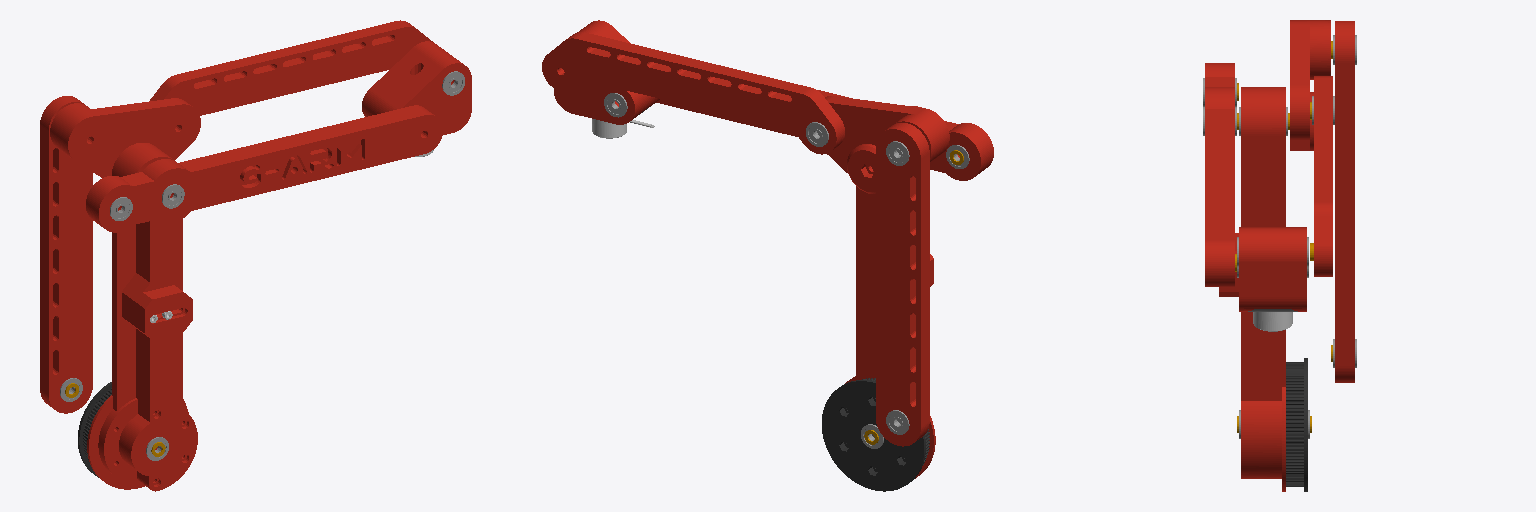
robot.urdf — g_arm:
<?xml version="1.0" ?>
<!-- =================================================================================== -->
<!-- |    eThis document was autogenerated by xacro from robot_electromagnet.urdf.xacro | -->
<!-- |    EDITING THIS FILE BY HAND IS NOT RECOMMENDED                                 | -->
<!-- =================================================================================== -->
<robot name="g_arm">
  <!-- Definition of the base link -->
  <link name="base_link">
    <visual>
      <origin rpy="0.0 0.0 0.0" xyz="0.0 0.0 0.0"/>
      <geometry>
        <mesh filename="package://g_arm_description/meshes/base.dae"/>
      </geometry>
    </visual>
    <collision>
      <origin rpy="0.0 0.0 0.0" xyz="0.0 0.0 0.035"/>
      <geometry>
        <cylinder length="0.07" radius="0.07"/>
      </geometry>
      <material name="blue">
        <color rgba="0.0 0.0 1.0 1.0"/>
      </material>
    </collision>
  </link>
  <!-- Definition of the motors base link -->
  <link name="motors_link">
    <visual>
      <origin rpy="0.0 0.0 0" xyz="0.0 0.0 0.0"/>
      <geometry>
        <mesh filename="package://g_arm_description/meshes/motors.dae"/>
      </geometry>
    </visual>
    <collision>
      <origin rpy="0.0 0.0 0.0" xyz="0 0 0"/>
      <geometry>
        <mesh filename="package://g_arm_description/meshes/motors.stl" scale="0.001 0.001 0.001"/>
      </geometry>
      <material name="blue">
        <color rgba="0.0 0.0 1.0 1.0"/>
      </material>
    </collision>
  </link>
  <!-- Definition of the arm link 1 -->
  <link name="link1">
    <visual>
      <origin rpy="0.0 0.0 0.0" xyz="0.0 0.0 0.0"/>
      <geometry>
        <mesh filename="package://g_arm_description/meshes/link1.dae"/>
      </geometry>
    </visual>
    <collision>
      <origin rpy="0.0 0.0 0.0" xyz="0.0 0.0 0.0"/>
      <geometry>
        <mesh filename="package://g_arm_description/meshes/link1.stl" scale="0.001 0.001 0.001"/>
      </geometry>
      <material name="blue">
        <color rgba="0.0 0.0 1.0 1.0"/>
      </material>
    </collision>
  </link>
  <link name="link_j3_lever">
    <visual>
      <origin rpy="0.0 0.0 0.0" xyz="0.0 0.0 0.0"/>
      <geometry>
        <mesh filename="package://g_arm_description/meshes/link_j3_lever.dae"/>
      </geometry>
    </visual>
    <collision>
      <origin rpy="0.0 0.0 0.0" xyz="0.0 0.0 0.0"/>
      <geometry>
        <mesh filename="package://g_arm_description/meshes/link_j3_lever.stl" scale="0.001 0.001 0.001"/>
      </geometry>
      <material name="blue">
        <color rgba="0.0 0.0 1.0 1.0"/>
      </material>
    </collision>
  </link>
  <link name="link1_to_link2_intermediate">

  </link>
  <!-- Definition of the arm link 2 -->
  <link name="link2">
    <visual>
      <origin rpy="0.0 0.0 0.0" xyz="0.0 0.0 0.0"/>
      <geometry>
        <mesh filename="package://g_arm_description/meshes/link2.dae"/>
      </geometry>
    </visual>
    <collision>
      <origin rpy="0.0 0.0 0.0" xyz="0.0 0.0 0.0"/>
      <geometry>
        <mesh filename="package://g_arm_description/meshes/link2.stl" scale="0.001 0.001 0.001"/>
      </geometry>
      <material name="blue">
        <color rgba="0.0 0.0 1.0 1.0"/>
      </material>
    </collision>
  </link>
  <!-- Definition of the arm end effector -->
  <link name="end_effector">
    <visual>
      <origin rpy="0.0 0.0 0.0" xyz="0.0 0.0 0.0"/>
      <geometry>
        <mesh filename="package://g_arm_description/meshes/end.dae"/>
      </geometry>
    </visual>
    <collision>
      <origin rpy="0.0 0.0 0.0" xyz="0.0 0.0 0.0"/>
      <geometry>
        <mesh filename="package://g_arm_description/meshes/end.stl" scale="0.001 0.001 0.001"/>
      </geometry>
      <material name="blue">
        <color rgba="0.0 0.0 1.0 1.0"/>
      </material>
    </collision>
  </link>
  <joint name="joint1" type="revolute">
    <origin rpy="0.0 0.0 0.0" xyz="0.0 0.0 0.076"/>
    <parent link="base_link"/>
    <child link="motors_link"/>
    <axis xyz="0.0 0.0 1.0"/>
    <limit effort="200.0" lower="-1.5707" upper="1.5707" velocity="200.0"/>
  </joint>
  <joint name="joint2" type="revolute">
    <origin rpy="1.5708 0 0" xyz="0.035 0.0331 0.055"/>
    <parent link="motors_link"/>
    <child link="link1"/>
    <axis xyz="0.0 0.0 1.0"/>
    <limit effort="200.0" lower="-1.5707" upper="1.5707" velocity="200.0"/>
  </joint>
  <joint name="joint_link1_link2_intermediate" type="revolute">
    <origin rpy="1.5708 0.0 0.0" xyz="0.035 -0.0341 0.055"/>
    <parent link="motors_link"/>
    <child link="link_j3_lever"/>
    <axis xyz="0.0 0.0 1.0"/>
    <limit effort="200.0" lower="-1.5707" upper="0.1" velocity="200.0"/>
    <mimic joint="joint3" multiplier="1.0"/>
  </joint>
  <joint name="joint3" type="revolute">
    <origin rpy="0.0 0.0 1.5708" xyz="0.0 0.17 0.0362"/>
    <parent link="link1"/>
    <child link="link1_to_link2_intermediate"/>
    <axis xyz="0.0 0.0 1.0"/>
    <limit effort="200.0" lower="-1.5707" upper="1.5707" velocity="200.0"/>
  </joint>
  <joint name="joint_link1_link2" type="revolute">
    <origin rpy="0 0 0.0" xyz="0.0 0.0 0.0"/>
    <parent link="link1_to_link2_intermediate"/>
    <child link="link2"/>
    <axis xyz="0.0 0.0 1.0"/>
    <limit effort="200.0" lower="-1.5707" upper="1.5707" velocity="200.0"/>
    <mimic joint="joint2" multiplier="-1.0"/>
  </joint>
  <joint name="passive_joint4_mimic" type="revolute">
    <origin rpy="0.0 0.0 -1.5708" xyz="0.0 -0.17 0.0"/>
    <parent link="link2"/>
    <child link="end_effector"/>
    <axis xyz="0.0 0.0 1.0"/>
    <limit effort="200.0" lower="-1.5707" upper="1.5707" velocity="200.0"/>
    <mimic joint="joint3" multiplier="-1.0"/>
  </joint>
  <!--Rest of the palalegrams: This is not neccesary for the IK but its important for appearance and collision avoidance-->
  <link name="link_j3_lever_to_rod_intermediate">

  </link>
  <link name="link_j3_rod">
    <visual>
      <origin rpy="0.0 0.0 0.0" xyz="0.0 0.0 0.0"/>
      <geometry>
        <mesh filename="package://g_arm_description/meshes/link_j3_rod.dae"/>
      </geometry>
    </visual>
    <collision>
      <origin rpy="0.0 0.0 0.0" xyz="0.0 0.0 0.0"/>
      <geometry>
        <mesh filename="package://g_arm_description/meshes/link_j3_rod.stl" scale="0.001 0.001 0.001"/>
      </geometry>
      <material name="blue">
        <color rgba="0.0 0.0 1.0 1.0"/>
      </material>
    </collision>
  </link>
  <joint name="passive_joint_j3_lever_to_rod_intermediate" type="revolute">
    <origin rpy="0.0 0.0 0.0" xyz="-0.035 0.0 -0.030"/>
    <parent link="link_j3_lever"/>
    <child link="link_j3_lever_to_rod_intermediate"/>
    <axis xyz="0.0 0.0 1.0"/>
    <limit effort="200.0" lower="-1.5707" upper="1.5707" velocity="200.0"/>
    <mimic joint="joint2" multiplier="1.0"/>
  </joint>
  <joint name="passive_joint_j3_lever_to_rod" type="revolute">
    <origin rpy="0.0 0.0 0.0" xyz="0.0 0.0 0.0"/>
    <parent link="link_j3_lever_to_rod_intermediate"/>
    <child link="link_j3_rod"/>
    <axis xyz="0.0 0.0 1.0"/>
    <limit effort="200.0" lower="-1.5707" upper="1.5707" velocity="200.0"/>
    <mimic joint="joint3" multiplier="-1.0"/>
  </joint>
  <link name="elbow_link">
    <visual>
      <origin rpy="0.0 0.0 0.0" xyz="0.0 0.0 0.0"/>
      <geometry>
        <mesh filename="package://g_arm_description/meshes/elbow.dae"/>
      </geometry>
    </visual>
    <collision>
      <origin rpy="0.0 0.0 0.0" xyz="0.0 0.0 0.0"/>
      <geometry>
        <mesh filename="package://g_arm_description/meshes/elbow.stl" scale="0.001 0.001 0.001"/>
      </geometry>
      <material name="blue">
        <color rgba="0.0 0.0 1.0 1.0"/>
      </material>
    </collision>
  </link>
  <joint name="passive_elbow_joint" type="revolute">
    <origin rpy="0.0 0.0 0.0" xyz="0.0 0.17 0.009"/>
    <parent link="link1"/>
    <child link="elbow_link"/>
    <axis xyz="0.0 0.0 1.0"/>
    <limit effort="200.0" lower="-1.5707" upper="1.5707" velocity="200.0"/>
    <mimic joint="joint2" multiplier="-1.0"/>
  </joint>
  <link name="parallel_end_link1">
    <visual>
      <origin rpy="0.0 0.0 0.0" xyz="0.0 0.0 0.0"/>
      <geometry>
        <mesh filename="package://g_arm_description/meshes/parallel_end_link1.dae"/>
      </geometry>
    </visual>
    <collision>
      <origin rpy="0.0 0.0 0.0" xyz="0.0 0.0 0.0"/>
      <geometry>
        <mesh filename="package://g_arm_description/meshes/parallel_end_link1.stl" scale="0.001 0.001 0.001"/>
      </geometry>
      <material name="blue">
        <color rgba="0.0 0.0 1.0 1.0"/>
      </material>
    </collision>
  </link>
  <joint name="passive_parallel_link1_joint" type="revolute">
    <origin rpy="1.5707 0.0 0.0" xyz="0.004474 0.058 0.080712"/>
    <parent link="motors_link"/>
    <child link="parallel_end_link1"/>
    <axis xyz="0.0 0.0 1.0"/>
    <limit effort="200.0" lower="-1.5707" upper="1.5707" velocity="200.0"/>
    <mimic joint="joint2" multiplier="1.0"/>
  </joint>
  <link name="parallel_end_link2">
    <visual>
      <origin rpy="0.0 0.0 0.0" xyz="0.0 0.0 0.0"/>
      <geometry>
        <mesh filename="package://g_arm_description/meshes/parallel_end_link2.dae"/>
      </geometry>
    </visual>
    <collision>
      <origin rpy="0.0 0.0 0.0" xyz="0.0 0.0 0.0"/>
      <geometry>
        <mesh filename="package://g_arm_description/meshes/parallel_end_link2.stl" scale="0.001 0.001 0.001"/>
      </geometry>
      <material name="blue">
        <color rgba="0.0 0.0 1.0 1.0"/>
      </material>
    </collision>
  </link>
  <joint name="passive_parallel_link2_intermediate" type="revolute">
    <origin rpy="0.0 0.0 1.5708" xyz="0.029054 0.019516 -0.011"/>
    <parent link="elbow_link"/>
    <child link="parallel_end_link2"/>
    <axis xyz="0.0 0.0 1.0"/>
    <limit effort="200.0" lower="-1.5708" upper="1.5708" velocity="200.0"/>
    <mimic joint="joint3" multiplier="1.0"/>
  </joint>
  <link name="end_effector_tip">
	
  </link>
  <joint name="end_effector_tip_fixed_joint" type="fixed">
    <origin rpy="1.5708 0.0 0.0" xyz="0.014525 -0.0075 -0.0185"/>
    <parent link="end_effector"/>
    <child link="end_effector_tip"/>
  </joint>
  <link name="electromagnet_link">
    <visual>
      <origin rpy="0.0 0.0 0.0" xyz="0.0 0.0 0.0"/>
      <geometry>
        <mesh filename="package://g_arm_description/meshes/electromagnet.dae"/>
      </geometry>
    </visual>
    <collision>
      <origin rpy="0.0 0.0 0.0" xyz="0.0 0.0 0.0"/>
      <geometry>
        <mesh filename="package://g_arm_description/meshes/electromagnet.stl" scale="0.001 0.001 0.001"/>
      </geometry>
      <material name="blue">
        <color rgba="0.0 0.0 1.0 1.0"/>
      </material>
    </collision>
  </link>
  <joint name="jointPWM" type="revolute">
    <origin rpy="0.0 0.0 0.0" xyz="0.0 0.0 0.0"/>
    <parent link="end_effector_tip"/>
    <child link="electromagnet_link"/>
    <axis xyz="0.0 0.0 1.0"/>
    <limit effort="200.0" lower="0.0" upper="0.001" velocity="200.0"/>
  </joint>
  <link name="tcp">
	
  </link>
  <joint name="tcp_fixed_joint" type="fixed">
    <origin rpy="0.0 0.0 0.0" xyz="0.0 0.0 0.02"/>
    <parent link="electromagnet_link"/>
    <child link="tcp"/>
  </joint>
</robot>

--- Render facts (derived) ---
Views: 3 orthographic renders of the robot side by side, from view 1: azimuth 30°, elevation 25°; view 2: azimuth 150°, elevation 25°; view 3: azimuth 270°, elevation 25°.
Model g_arm with 15 links and 14 joints (12 revolute, 2 fixed), rooted at base_link, posed all joints at 0.
Visible links, largest first — view 1: link1, link2, parallel_end_link1, parallel_end_link2, elbow_link, end_effector; view 2: parallel_end_link1, parallel_end_link2, link1, elbow_link, end_effector, link2, electromagnet_link; view 3: link1, parallel_end_link1, link2, end_effector, elbow_link, parallel_end_link2, electromagnet_link.
Link boxes in pixels (x1,y1,x2,y2): link1: [78, 143, 197, 491]; link2: [86, 105, 442, 232]; parallel_end_link1: [40, 96, 92, 413]; parallel_end_link2: [150, 20, 433, 115]; elbow_link: [50, 98, 200, 177]; end_effector: [362, 41, 471, 134]; parallel_end_link1: [876, 123, 929, 446]; parallel_end_link2: [542, 32, 844, 154]; link1: [822, 186, 935, 491]; elbow_link: [825, 96, 949, 193]; end_effector: [554, 20, 659, 124]; link2: [656, 90, 993, 180]; electromagnet_link: [592, 106, 654, 138]; link1: [1219, 87, 1311, 491]; parallel_end_link1: [1331, 21, 1356, 382]; link2: [1203, 63, 1238, 286]; end_effector: [1237, 227, 1308, 311]; elbow_link: [1288, 20, 1332, 150]; parallel_end_link2: [1310, 76, 1334, 276]; electromagnet_link: [1248, 309, 1297, 331].
Size in the robot's own frame: 0.2616 by 0.0781 by 0.2466 metres.
7 mesh visuals loaded from 11 distinct referenced files (7 Collada DAE); not drawn: 4 (reference not matched to a file when rendering).
